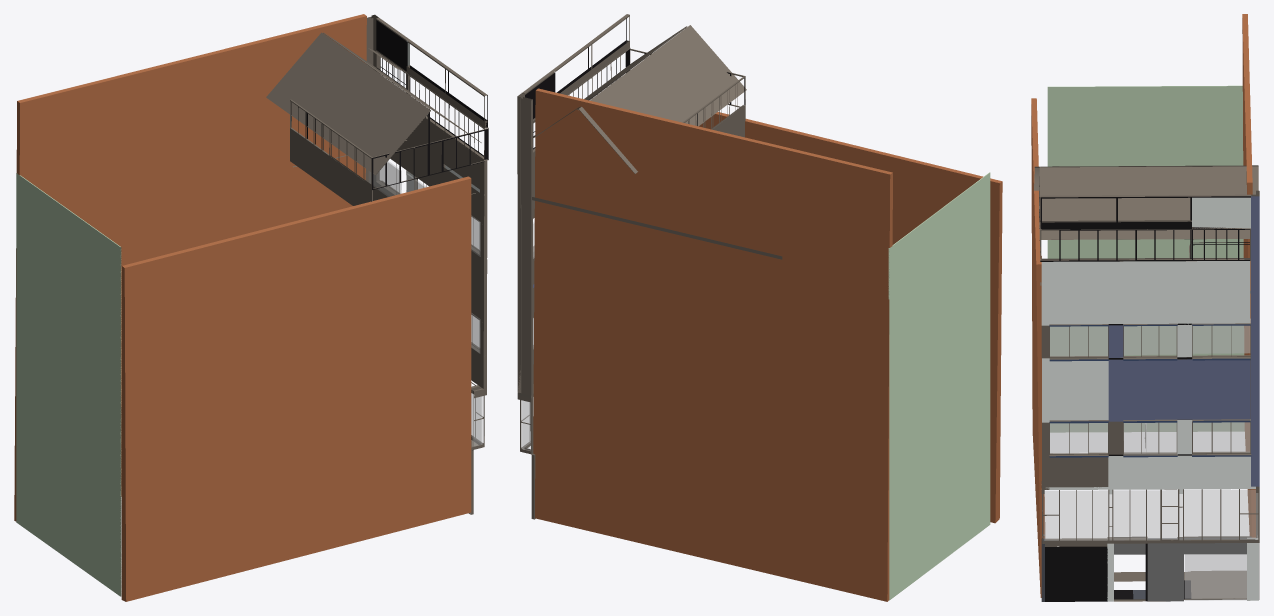
The model's file is sauna.glb.
3 views of the same model, side by side, from view 1: azimuth 30°, elevation 25°; view 2: azimuth 150°, elevation 25°; view 3: azimuth 270°, elevation 25° (orthographic).
Parts seen in each view (by area): view 1: Cube.006, Cube.007, Cube.050, Cube.013; view 2: Cube.007, Cube.050, Cube.013, Cube.006; view 3: Cube.013, Cube.050, Cube.006, Cube.007.
Part boxes in pixels (bbox=[...]): Cube.006: bbox=[121, 176, 471, 601]; Cube.007: bbox=[14, 14, 366, 521]; Cube.050: bbox=[16, 173, 121, 596]; Cube.013: bbox=[266, 14, 488, 514]; Cube.007: bbox=[533, 88, 892, 601]; Cube.050: bbox=[888, 172, 990, 600]; Cube.013: bbox=[517, 14, 782, 519]; Cube.006: bbox=[699, 112, 1002, 523]; Cube.013: bbox=[1034, 165, 1259, 601]; Cube.050: bbox=[1047, 85, 1244, 432]; Cube.006: bbox=[1031, 98, 1045, 597]; Cube.007: bbox=[1242, 14, 1255, 537].
Bounding box in the file's own units: 319 × 348 × 172.
